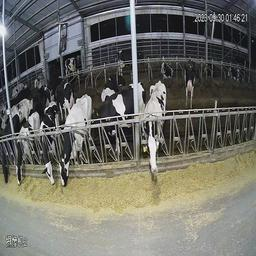cow: (58, 91, 96, 198), (91, 84, 146, 153), (142, 76, 172, 201), (16, 107, 40, 191), (39, 102, 59, 195), (1, 104, 19, 192), (6, 87, 40, 123), (117, 43, 148, 74), (181, 54, 198, 107), (101, 67, 128, 100), (52, 74, 74, 113), (224, 56, 241, 83), (159, 50, 174, 78), (62, 50, 77, 77), (32, 67, 48, 90), (203, 55, 218, 79)
